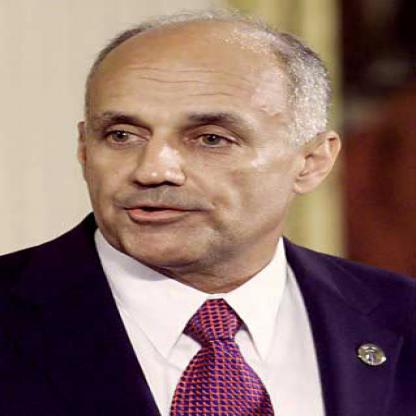face: (77, 17, 306, 271)
